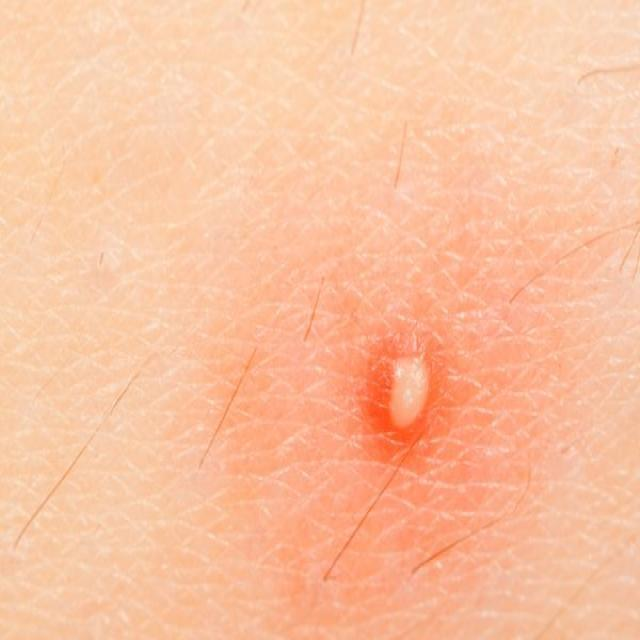pustule: (358, 285, 466, 469)
